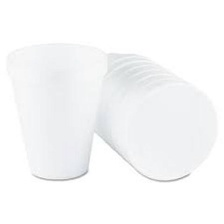paper_cup: (62, 45, 224, 186), (1, 37, 113, 184)
